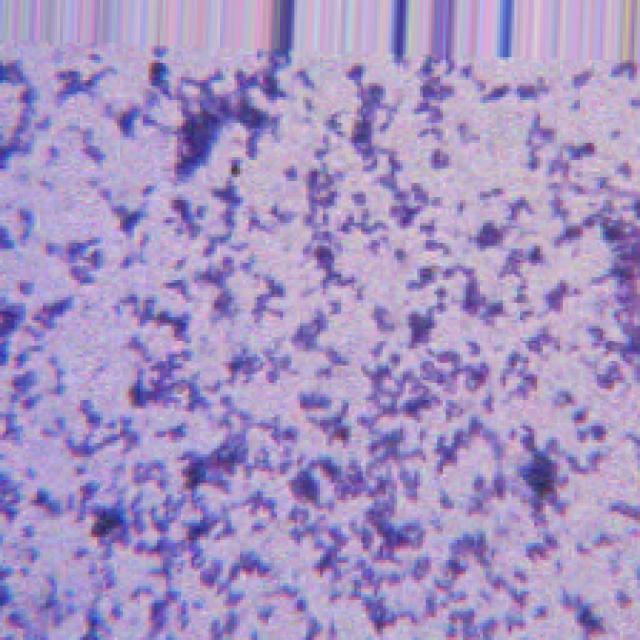Rod_bacteria: (0, 34, 637, 637)
